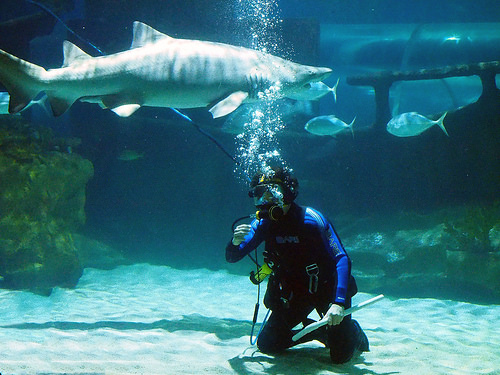shark: (6, 17, 340, 123)
